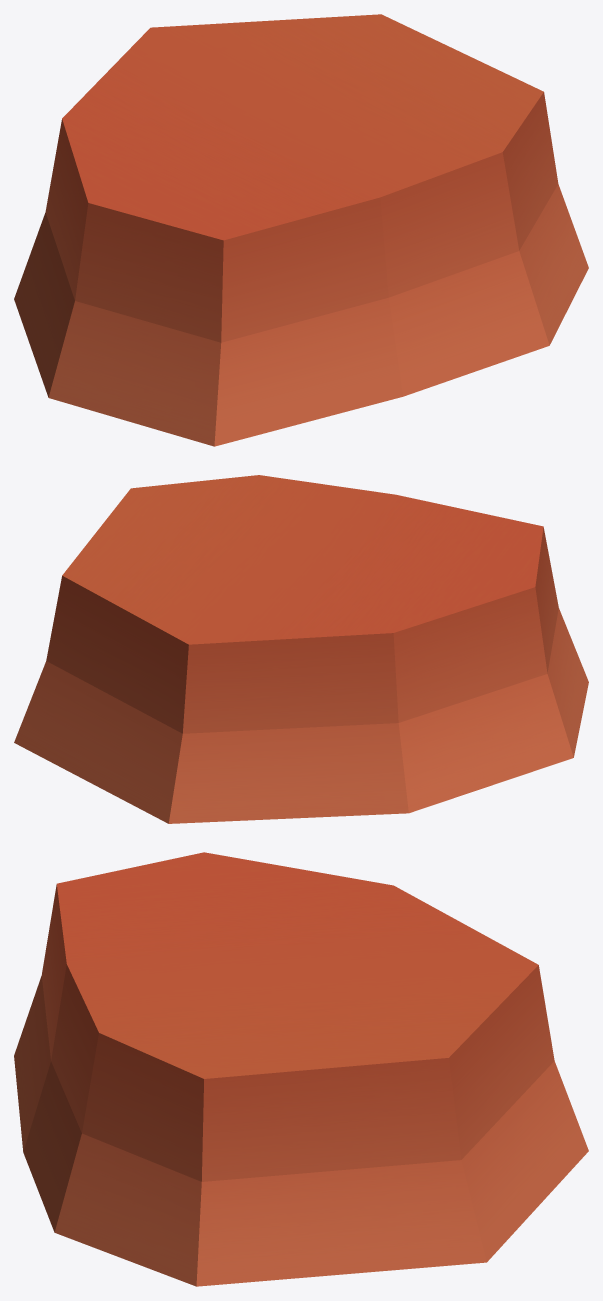
Rendered from Red_cliff3.fbx.
3 views of the same model, one above another, from view 1: azimuth 30°, elevation 25°; view 2: azimuth 150°, elevation 25°; view 3: azimuth 270°, elevation 25° (orthographic). The views are drawn at different scales.
Parts seen in each view (by area): view 1: cliff3; view 2: cliff3; view 3: cliff3.
Boxes of the visible parts, x1,y1,x2,y2 form: cliff3: (14,14,588,446); cliff3: (14,475,588,823); cliff3: (14,852,588,1286).
Size of the model in its own units: 3.3 by 1.08 by 2.99.
